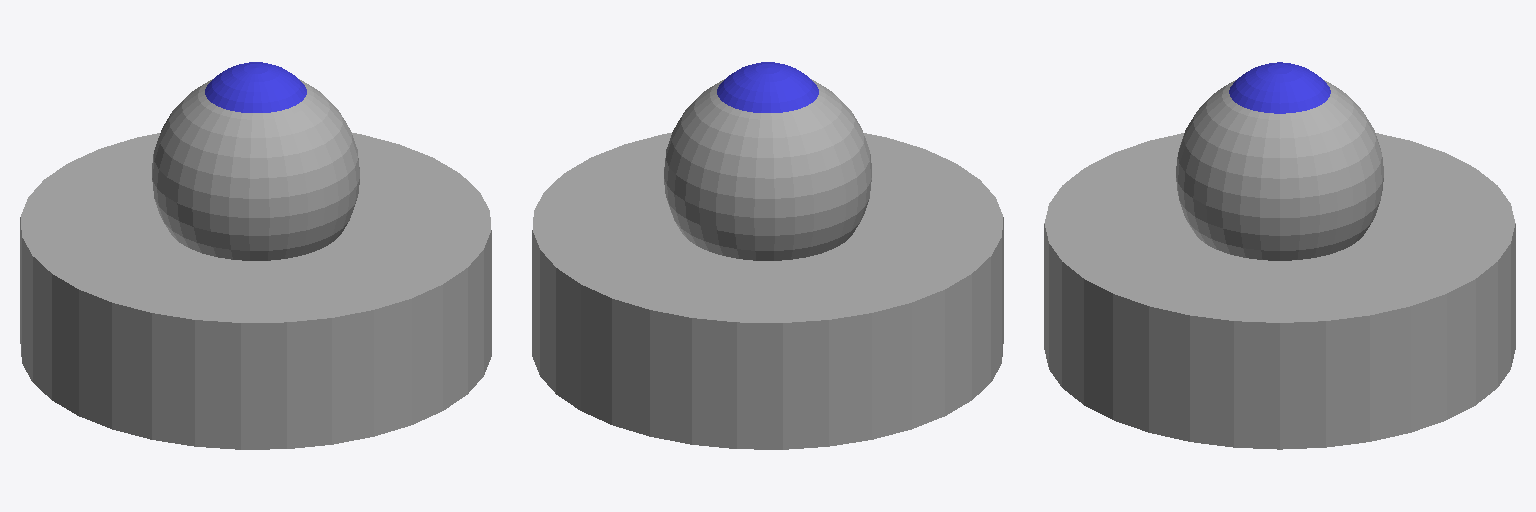
The robot description file, URDF, robot "evolved_robot":
<?xml version="1.0"?>
<robot name="evolved_robot">
  <material name="metal">
    <color rgba="0.7 0.7 0.7 1.0"/>
  </material>
  <material name="plastic">
    <color rgba="0.3 0.3 0.9 1.0"/>
  </material>
  <material name="rubber">
    <color rgba="0.1 0.1 0.1 1.0"/>
  </material>
  <material name="red">
    <color rgba="1.0 0.0 0.0 1.0"/>
  </material>
  <material name="wheel_material">
    <color rgba="0.2 0.2 0.2 1.0"/>
  </material>
  <link name="base_link">
    <visual>
      <geometry><cylinder radius="0.21648124333150892" length="0.12833373530773956"/></geometry>
      <material name="metal"/>
    </visual>
    <collision>
      <geometry><cylinder radius="0.21648124333150892" length="0.12833373530773956"/></geometry>
    </collision>
    <inertial>
      <mass value="5.0"/>
      <inertia ixx="0.13088494480092075" ixy="0" ixz="0" 
               iyy="0.13088494480092075" iyz="0" 
               izz="0.23432064357177987"/>
    </inertial>
  </link>
  <link name="link1">
    <visual>
      <geometry><box size="0.13329368958323384 0.07929365657114801 0.14729008550842207"/></geometry>
      <material name="rubber"/>
    </visual>
    <collision>
      <geometry><box size="0.13329368958323384 0.07929365657114801 0.14729008550842207"/></geometry>
    </collision>
    <inertial>
      <mass value="0.5"/>
      <inertia ixx="0.0023318211051251204" ixy="0" ixz="0" 
               iyy="0.003288464747649149" iyz="0" 
               izz="0.0020045576379278886"/>
    </inertial>
  </link>
  <joint name="joint1" type="revolute">
    <parent link="base_link"/>
    <child link="link1"/>
    <origin xyz="0 0 0.06416686765386978" rpy="0 0 0"/>
    <axis xyz="0.6363548122776973 0.7713881741349623 0.0035829730316739167"/>
    <dynamics damping="0.11404203751238937" friction="0.1"/>
    <limit lower="-1.6013271767710382" upper="2.4621390184665732" effort="100" velocity="100"/>
  </joint>
  <link name="link2">
    <visual>
      <geometry><sphere radius="0.09591109952180707"/></geometry>
      <material name="metal"/>
    </visual>
    <collision>
      <geometry><sphere radius="0.09591109952180707"/></geometry>
    </collision>
    <inertial>
      <mass value="0.5"/>
      <inertia ixx="0.003679575604592792" ixy="0" ixz="0" 
               iyy="0.003679575604592792" iyz="0" 
               izz="0.003679575604592792"/>
    </inertial>
  </link>
  <joint name="joint2" type="floating">
    <parent link="base_link"/>
    <child link="link2"/>
    <origin xyz="0 0 0.11416686765386978" rpy="0 0 0"/>
    <axis xyz="-0.3548204443899593 -0.7330347206274189 -0.5803124594540374"/>
    <dynamics damping="0.9725577042361875" friction="0.1"/>
  </joint>
  <link name="link3">
    <visual>
      <geometry><sphere radius="0.057545544923637754"/></geometry>
      <material name="plastic"/>
    </visual>
    <collision>
      <geometry><sphere radius="0.057545544923637754"/></geometry>
    </collision>
    <inertial>
      <mass value="0.5"/>
      <inertia ixx="0.0013245958962233644" ixy="0" ixz="0" 
               iyy="0.0013245958962233644" iyz="0" 
               izz="0.0013245958962233644"/>
    </inertial>
  </link>
  <joint name="joint3" type="fixed">
    <parent link="base_link"/>
    <child link="link3"/>
    <origin xyz="0 0 0.16416686765386979" rpy="0 0 0"/>
    <axis xyz="0.029203565256355837 0.904731144870546 0.4249808316589688"/>
    <dynamics damping="0.613708214320177" friction="0.1"/>
  </joint>
</robot>

--- What the picture shows (computed from the rendered views, not written in the file) ---
The picture shows the robot from 3 angles, left to right: view 1: azimuth 30°, elevation 25°; view 2: azimuth 150°, elevation 25°; view 3: azimuth 270°, elevation 25°; orthographic projection.
Model evolved_robot with 4 links and 3 joints (1 revolute, 1 fixed, 1 floating), rooted at base_link, posed every joint at zero.
Visible links, largest first — view 1: base_link, link2, link3; view 2: base_link, link2, link3; view 3: base_link, link2, link3.
Boxes of the visible links, box(x1,y1,x2,y2) form: base_link: box(20, 133, 491, 449); link2: box(152, 79, 359, 260); link3: box(205, 62, 306, 112); base_link: box(532, 133, 1003, 449); link2: box(664, 79, 871, 260); link3: box(717, 62, 818, 112); base_link: box(1044, 133, 1515, 449); link2: box(1176, 80, 1383, 260); link3: box(1229, 62, 1330, 113).
Bounding box of the posed robot: 0.433 × 0.433 × 0.2859 m (x, y, z).
Geometry: primitives only (box / cylinder / sphere), no mesh files.